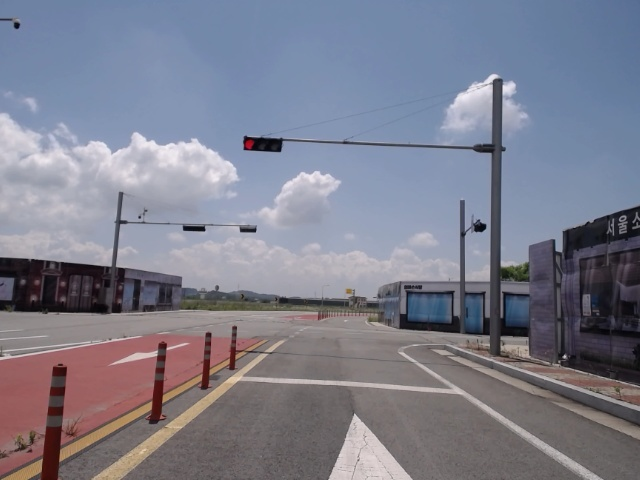red_3: (243, 137, 282, 150)
